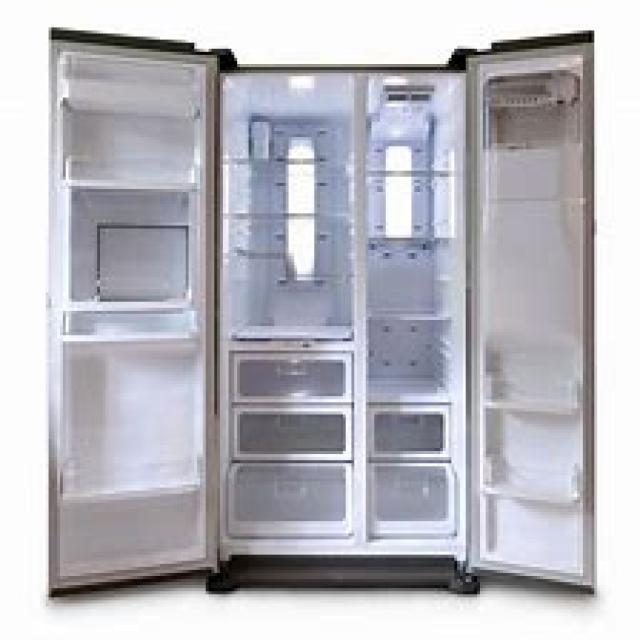fridge: (43, 25, 597, 598)
